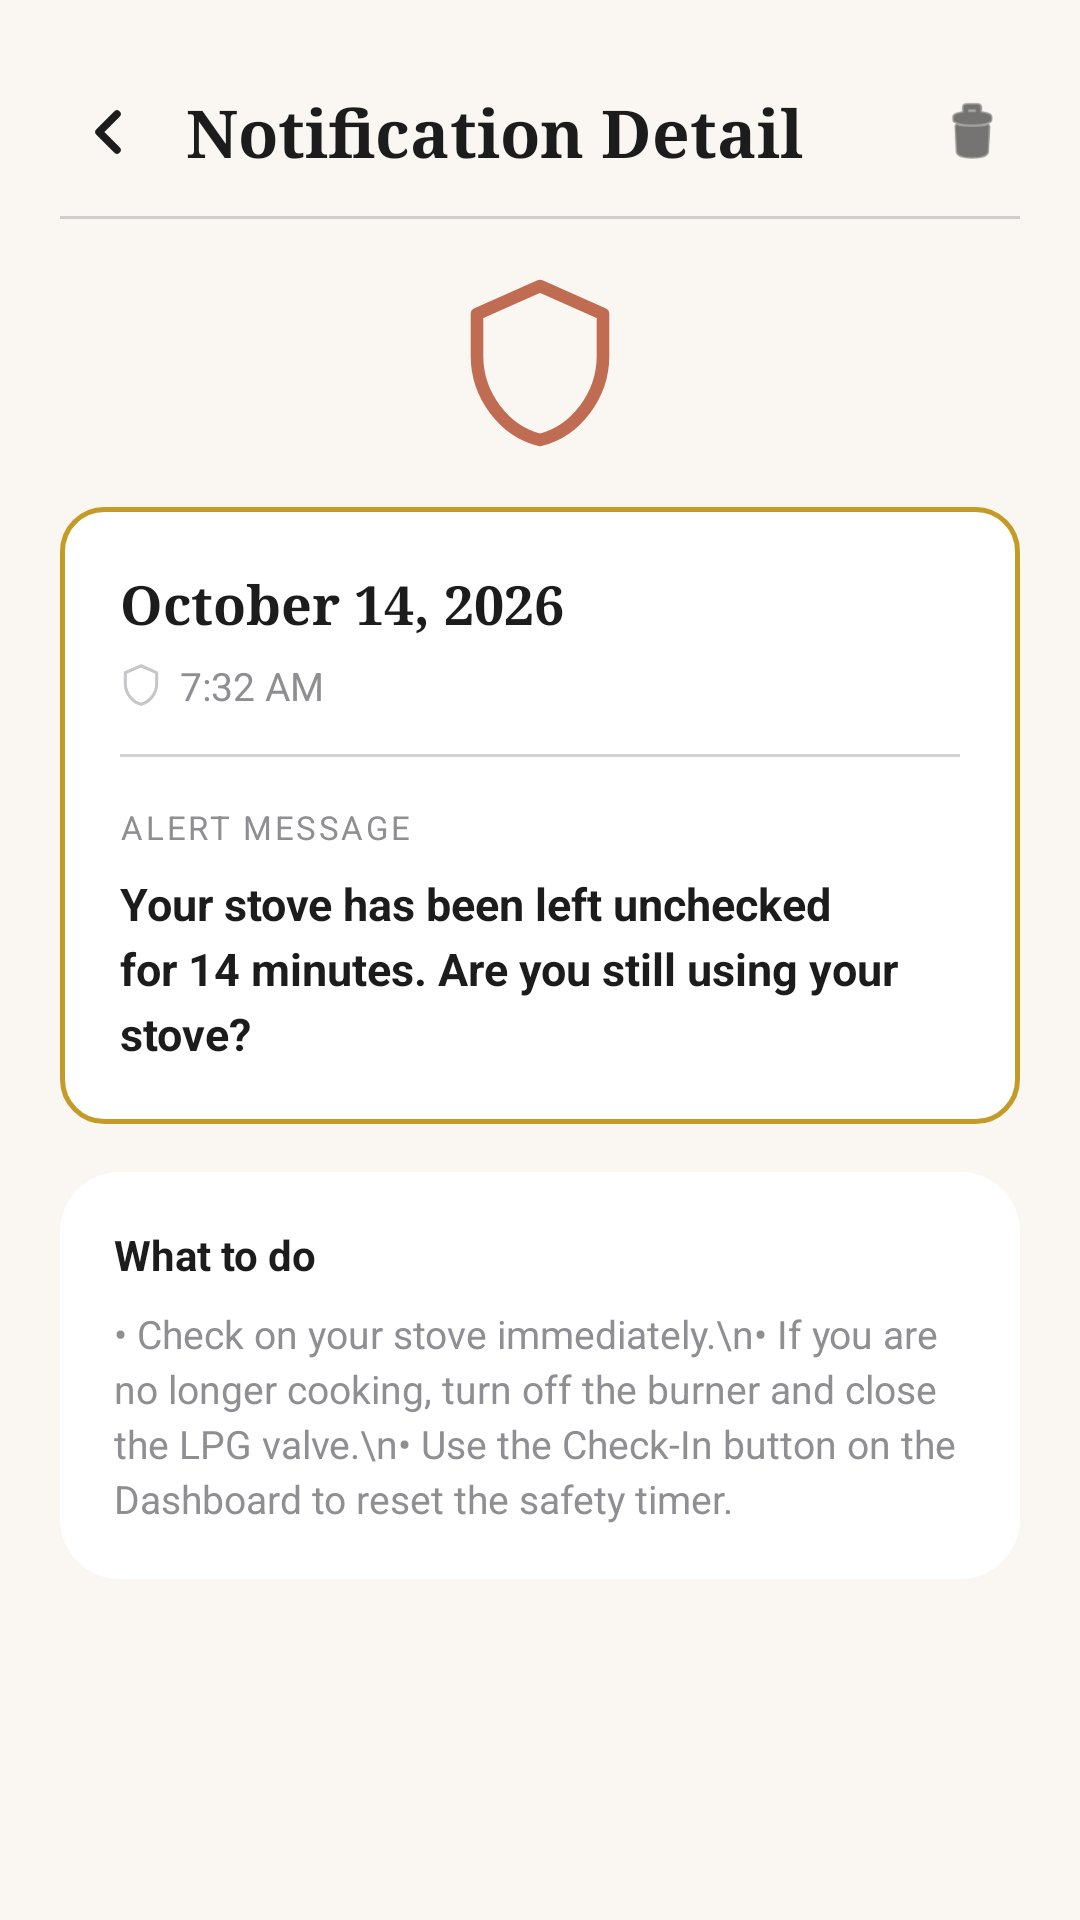

Point at icon controls on the screen. Image size 1080w x 1920h, points as (x,y).
back chevron: (108,132)
delete: (972,131)
shield: (540,363), (141,685)
